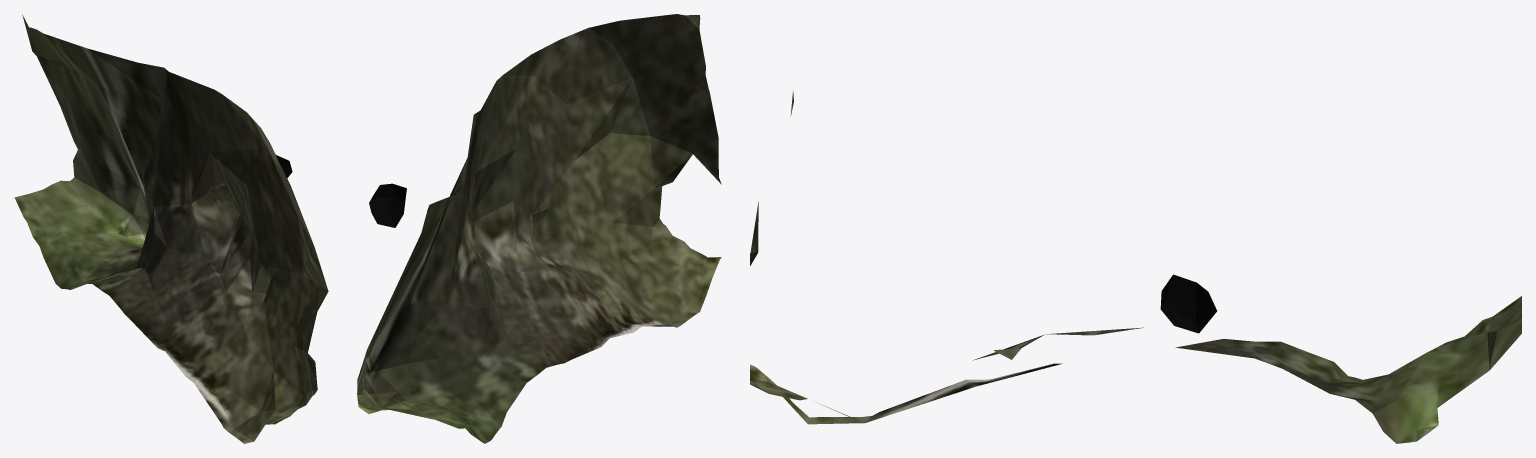
The picture shows the model from 3 angles, left to right: view 1: azimuth 30°, elevation 25°; view 2: azimuth 150°, elevation 25°; view 3: azimuth 270°, elevation 25°; orthographic projection. The views are drawn at different scales.
Bounding box in the file's own units: 1.14 × 1.7 × 2.95.
Materials: 2 (2 with a texture image).
